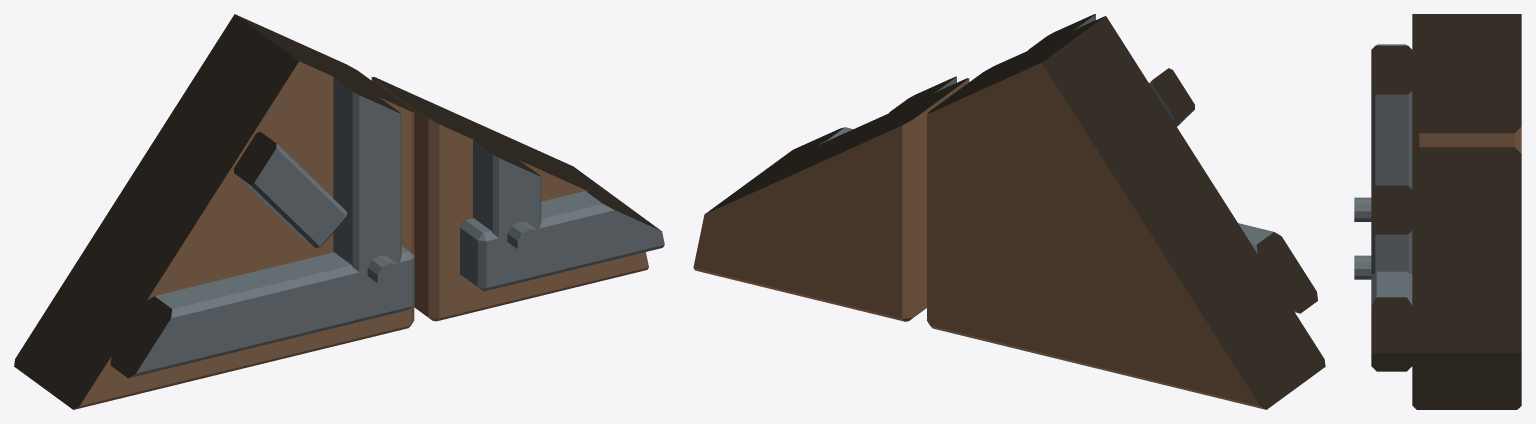
Rendered from SM_DoorShard_03_64.fbx.
3 views of the same model, side by side, from view 1: azimuth 30°, elevation 25°; view 2: azimuth 150°, elevation 25°; view 3: azimuth 270°, elevation 25° (orthographic). The views are drawn at different scales.
Visible parts, largest first — view 1: SM_DoorShard_03_64; view 2: SM_DoorShard_03_64; view 3: SM_DoorShard_03_64.
Part boxes in pixels (left/top/right/bottom): SM_DoorShard_03_64: left=14, top=14, right=664, bottom=409; SM_DoorShard_03_64: left=693, top=14, right=1325, bottom=409; SM_DoorShard_03_64: left=1354, top=14, right=1521, bottom=409.
Size of the model in its own units: 82.12 by 24.5 by 40.49.
